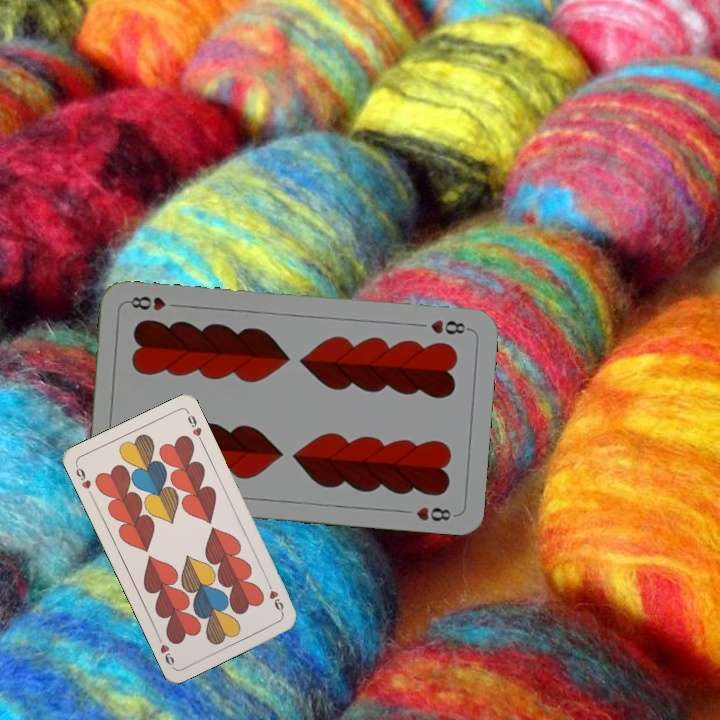H8: (426, 316, 472, 337)
H9: (72, 460, 95, 499), (263, 578, 286, 617)
